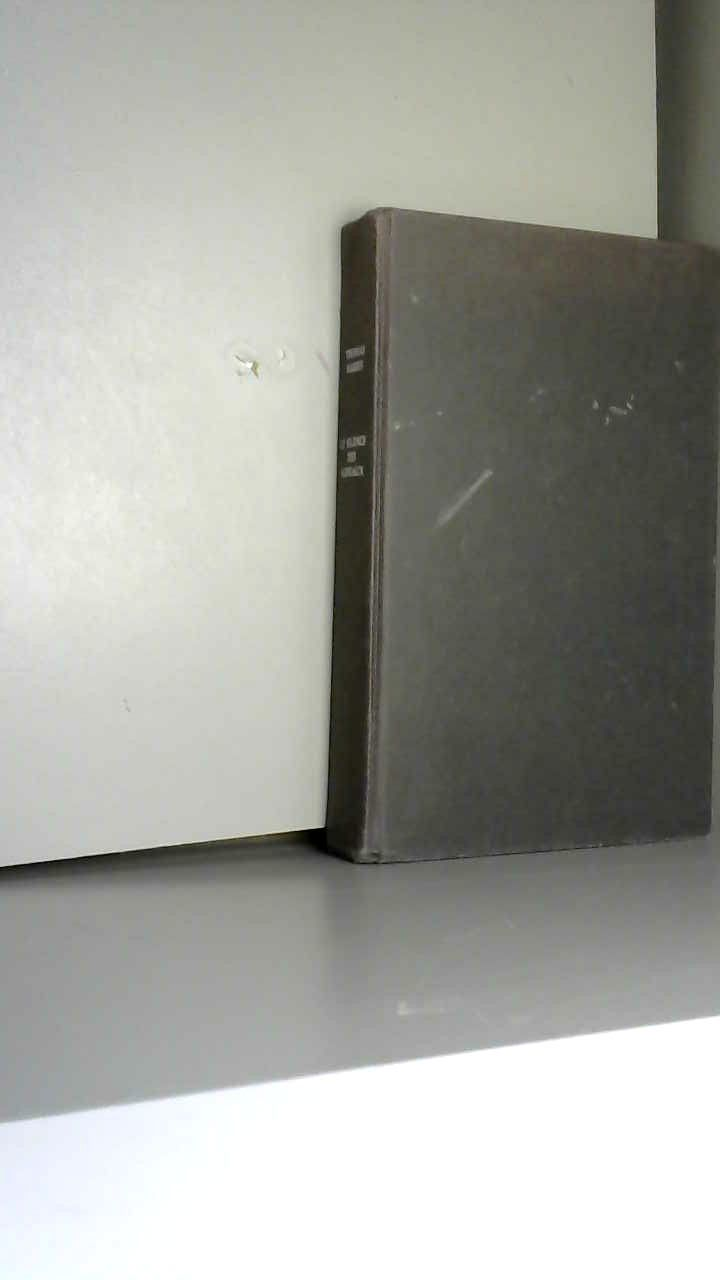book: (300, 180, 720, 890)
